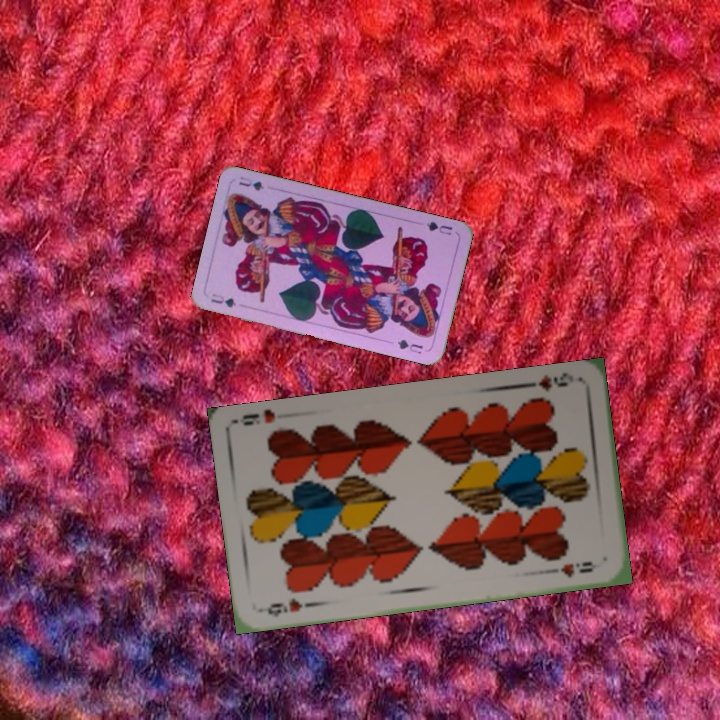GU: (422, 217, 455, 238), (207, 290, 238, 310)
H9: (521, 369, 576, 394), (263, 594, 305, 620)
